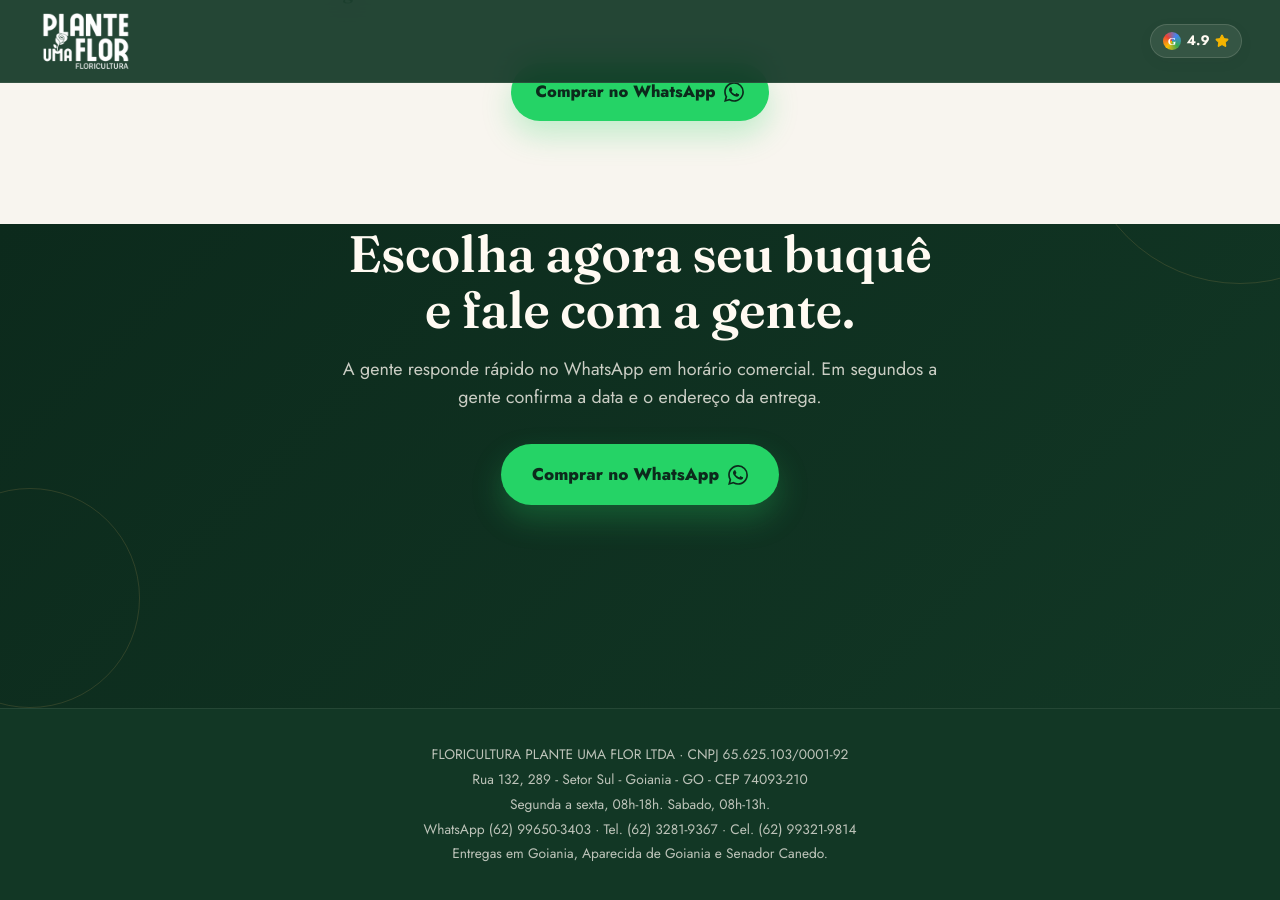
Test case: ad landing pages › reconciliacao's default state has no product-specific CTA (still opens the intent picker)
(page scrolled)
Click the button with test id "ad-lp-cta-final" at (640, 475), box 501,444 -> 779,505
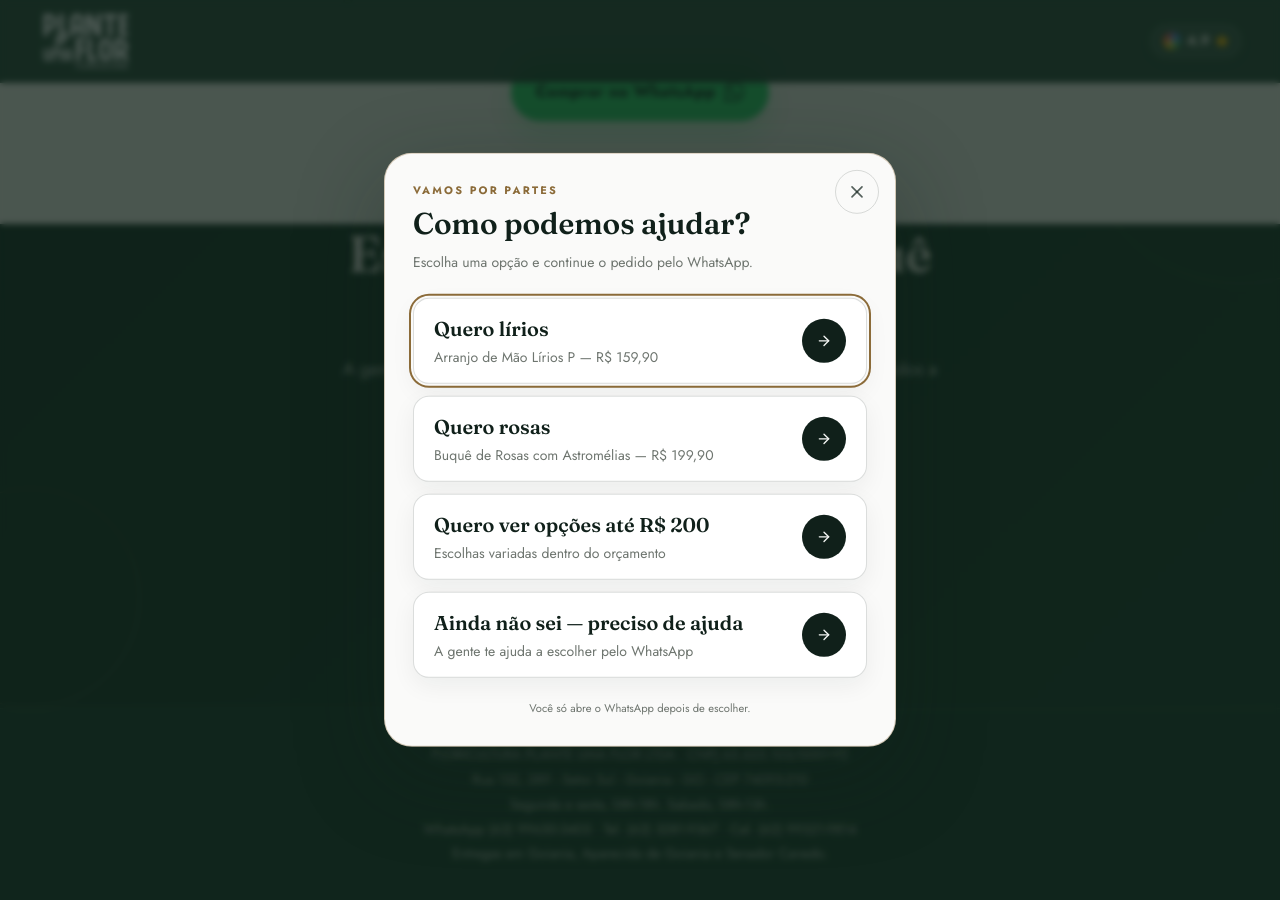
Check: the dialog is shown, box 384,153 -> 896,747
Check: the text "Quero lírios" is shown, box 434,316 -> 549,341
Check: the text "Quero rosas" is shown, box 434,414 -> 551,439
